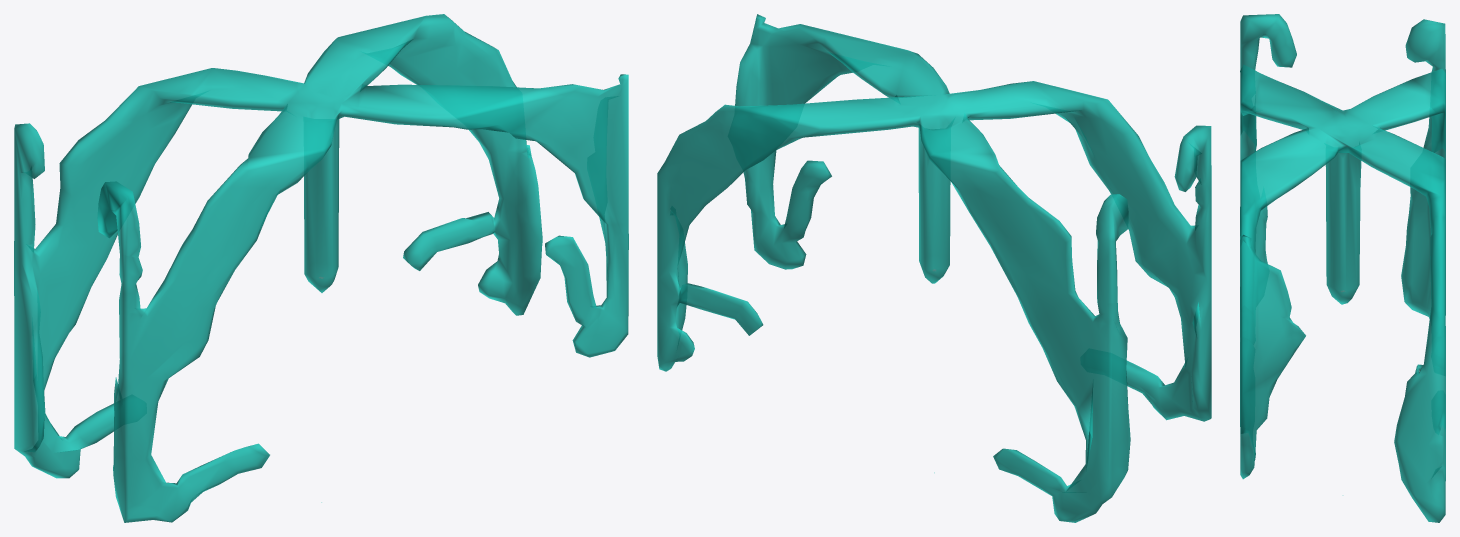
3 renders of one model, left to right at view 1: azimuth 30°, elevation 25°; view 2: azimuth 150°, elevation 25°; view 3: azimuth 270°, elevation 25°, orthographic. The views are drawn at different scales.
Parts seen in each view (by area): view 1: Liquid_Domain; view 2: Liquid_Domain; view 3: Liquid_Domain.
Part boxes in pixels (bbox=[...]): Liquid_Domain: bbox=[14, 14, 628, 522]; Liquid_Domain: bbox=[657, 14, 1211, 522]; Liquid_Domain: bbox=[1240, 14, 1445, 522].
Size of the model in its own units: 885 by 683 by 344.
